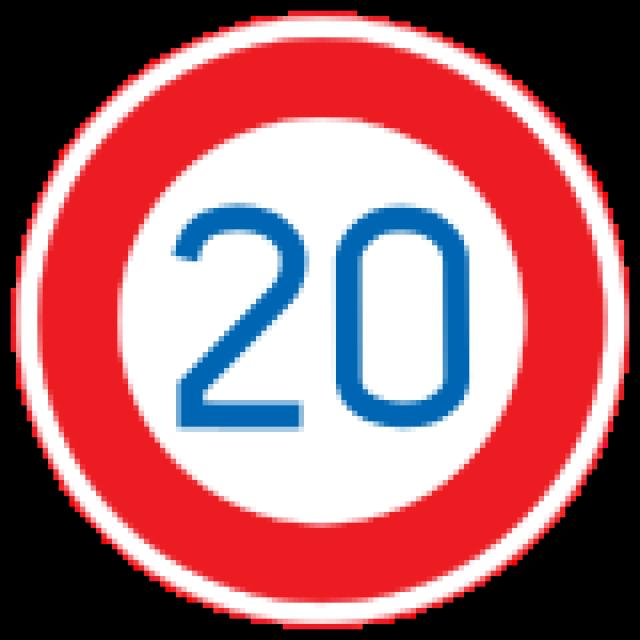Speed Limit -20-: (158, 200, 476, 428)
